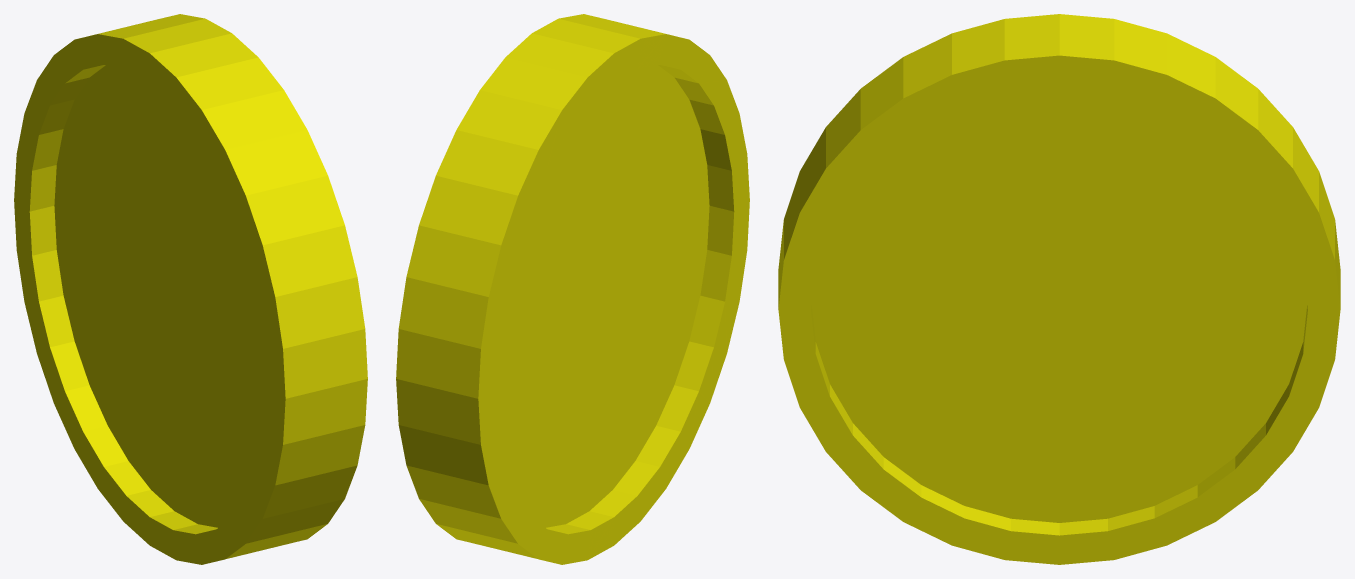
File: Coin.fbx
3 views of the same model, side by side, from view 1: azimuth 30°, elevation 25°; view 2: azimuth 150°, elevation 25°; view 3: azimuth 270°, elevation 25° (orthographic). The views are drawn at different scales.
Parts seen in each view (by area): view 1: Coin; view 2: Coin; view 3: Coin.
Boxes of the visible parts, x1=… form: Coin: x1=14, y1=14, x2=367, y2=564; Coin: x1=396, y1=14, x2=749, y2=564; Coin: x1=778, y1=14, x2=1340, y2=564.
Size of the model in its own units: 35 by 200 by 200.
